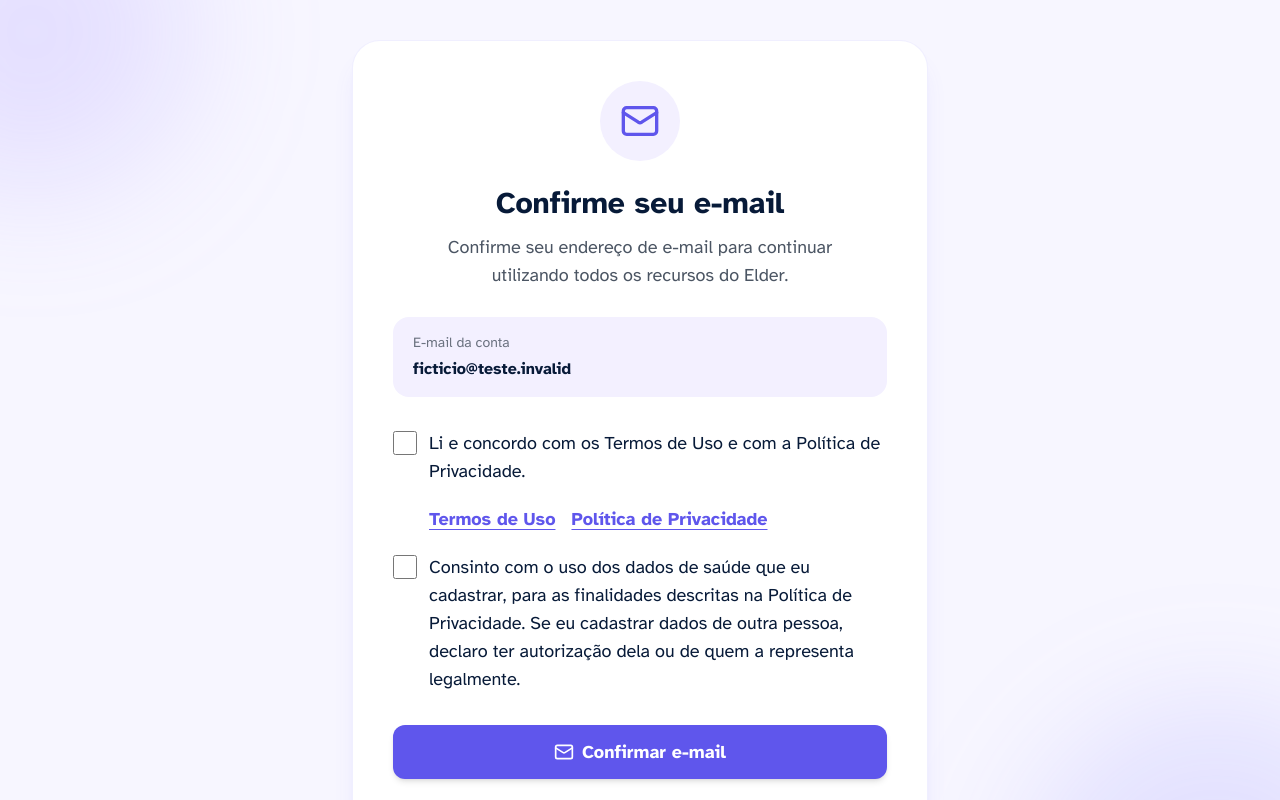
Test case: ConfirmarEmail (acessibilidade) › erro de aceite (caixas desmarcadas): não tem violações detectáveis pelo axe
Click the button "Confirmar e-mail": (640, 752) [393,725,887,779]
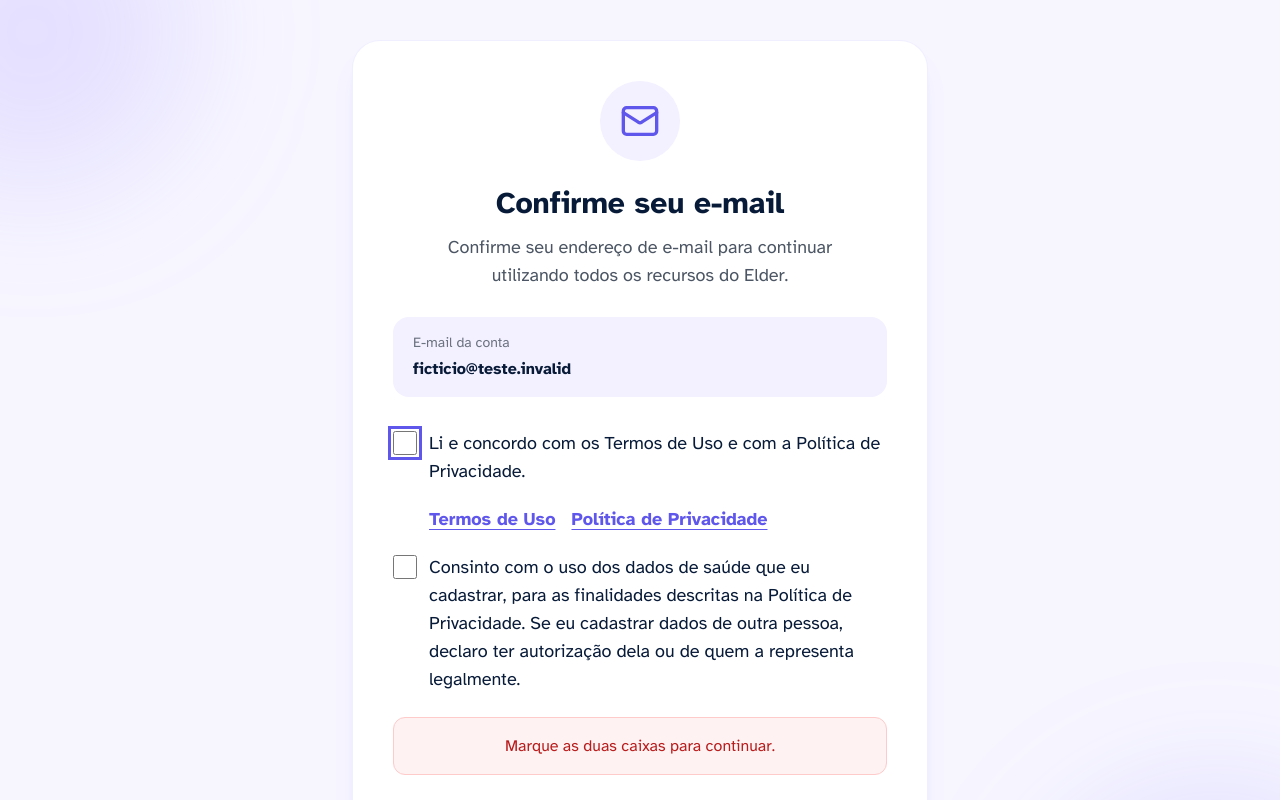
Now the message "Marque as duas caixas para continuar." is shown, box [393,717,887,775]
